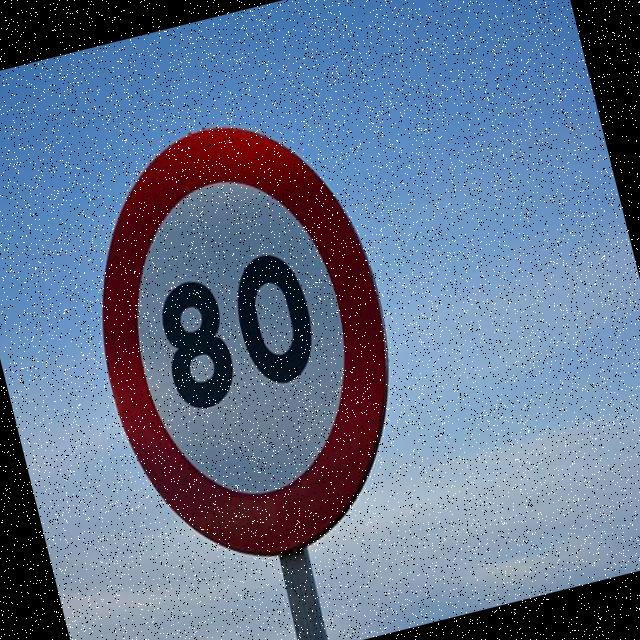speed_limit_80: (49, 96, 436, 586)
